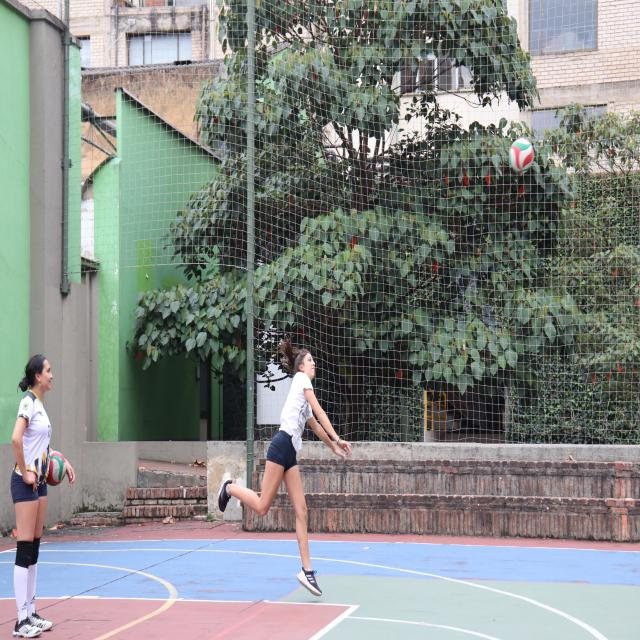volleyball: (510, 138, 534, 176), (47, 451, 66, 486)
